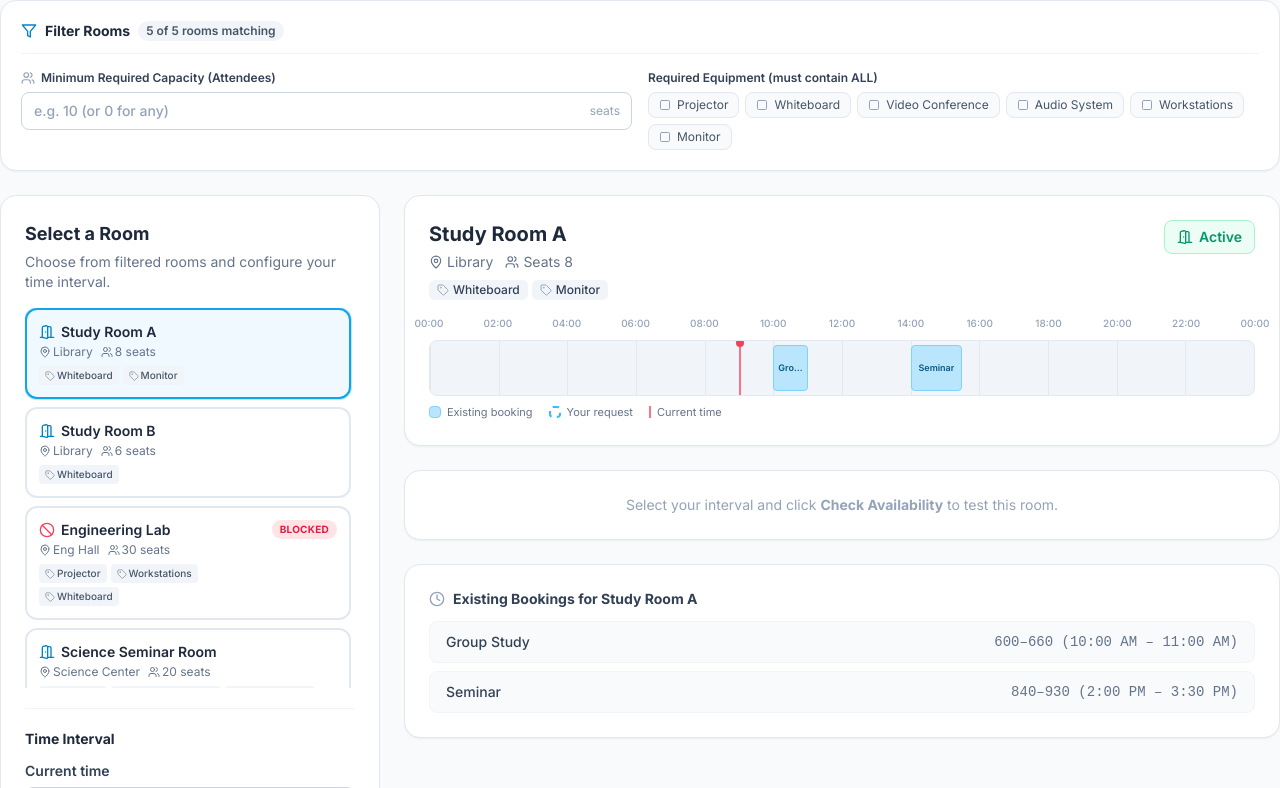
Test: RoomChecker UI Integration & Behavior Tests › F1 & F4: filters rooms by capacity and displays empty state when no match is found
Type "25" into the number field with placeholder "e.g. 10 (or 0 for any)". click: (326, 111)
box: [21, 92, 632, 130]
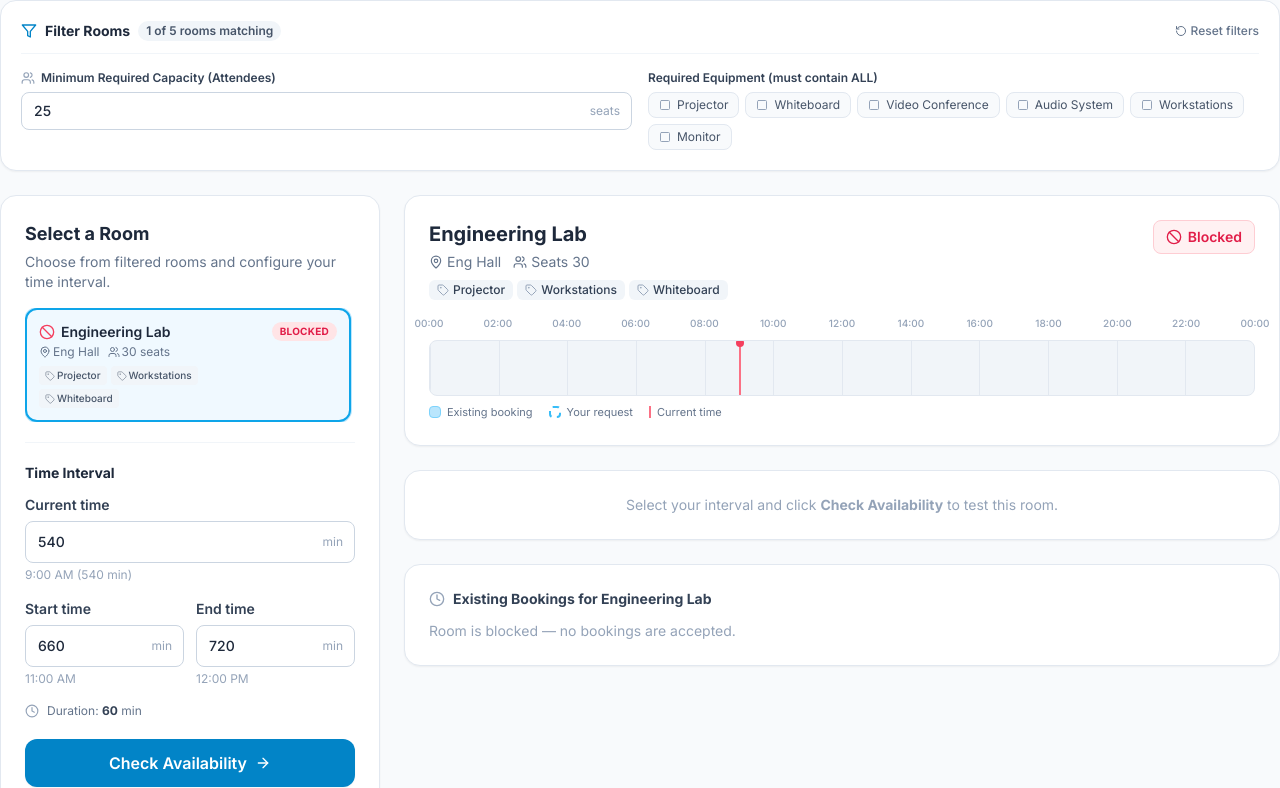
Expected: the button with test id "room-select-eng-205" is shown, [25, 308, 351, 422]
Expected: the button with test id "room-select-lib-101" is gone
Expected: the button with test id "room-select-lib-102" is gone
Note: Filter to capacity 500: No rooms match, empty state is displayed (F4)
Replace the text in the number field with placeholder "e.g. 10 (or 0 for any)" with "500". click: (326, 111)
box: [21, 92, 632, 130]
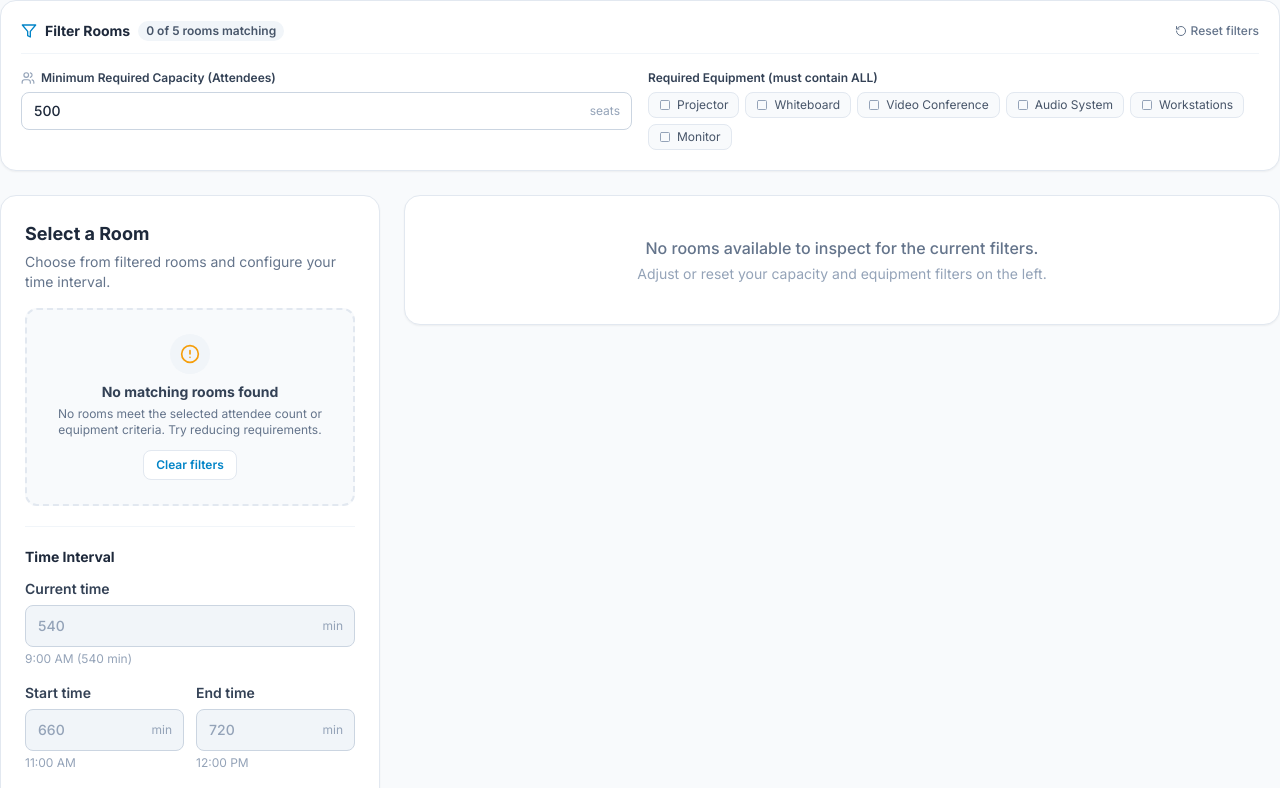
Expected: the element with test id "empty-catalog-state" is shown, [25, 308, 355, 506]
Expected: the heading "No matching rooms found" is shown, [102, 383, 278, 400]
